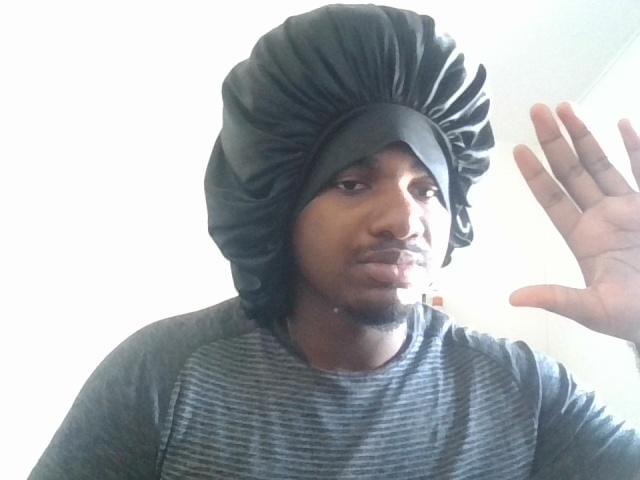Hello: (503, 90, 640, 346)
